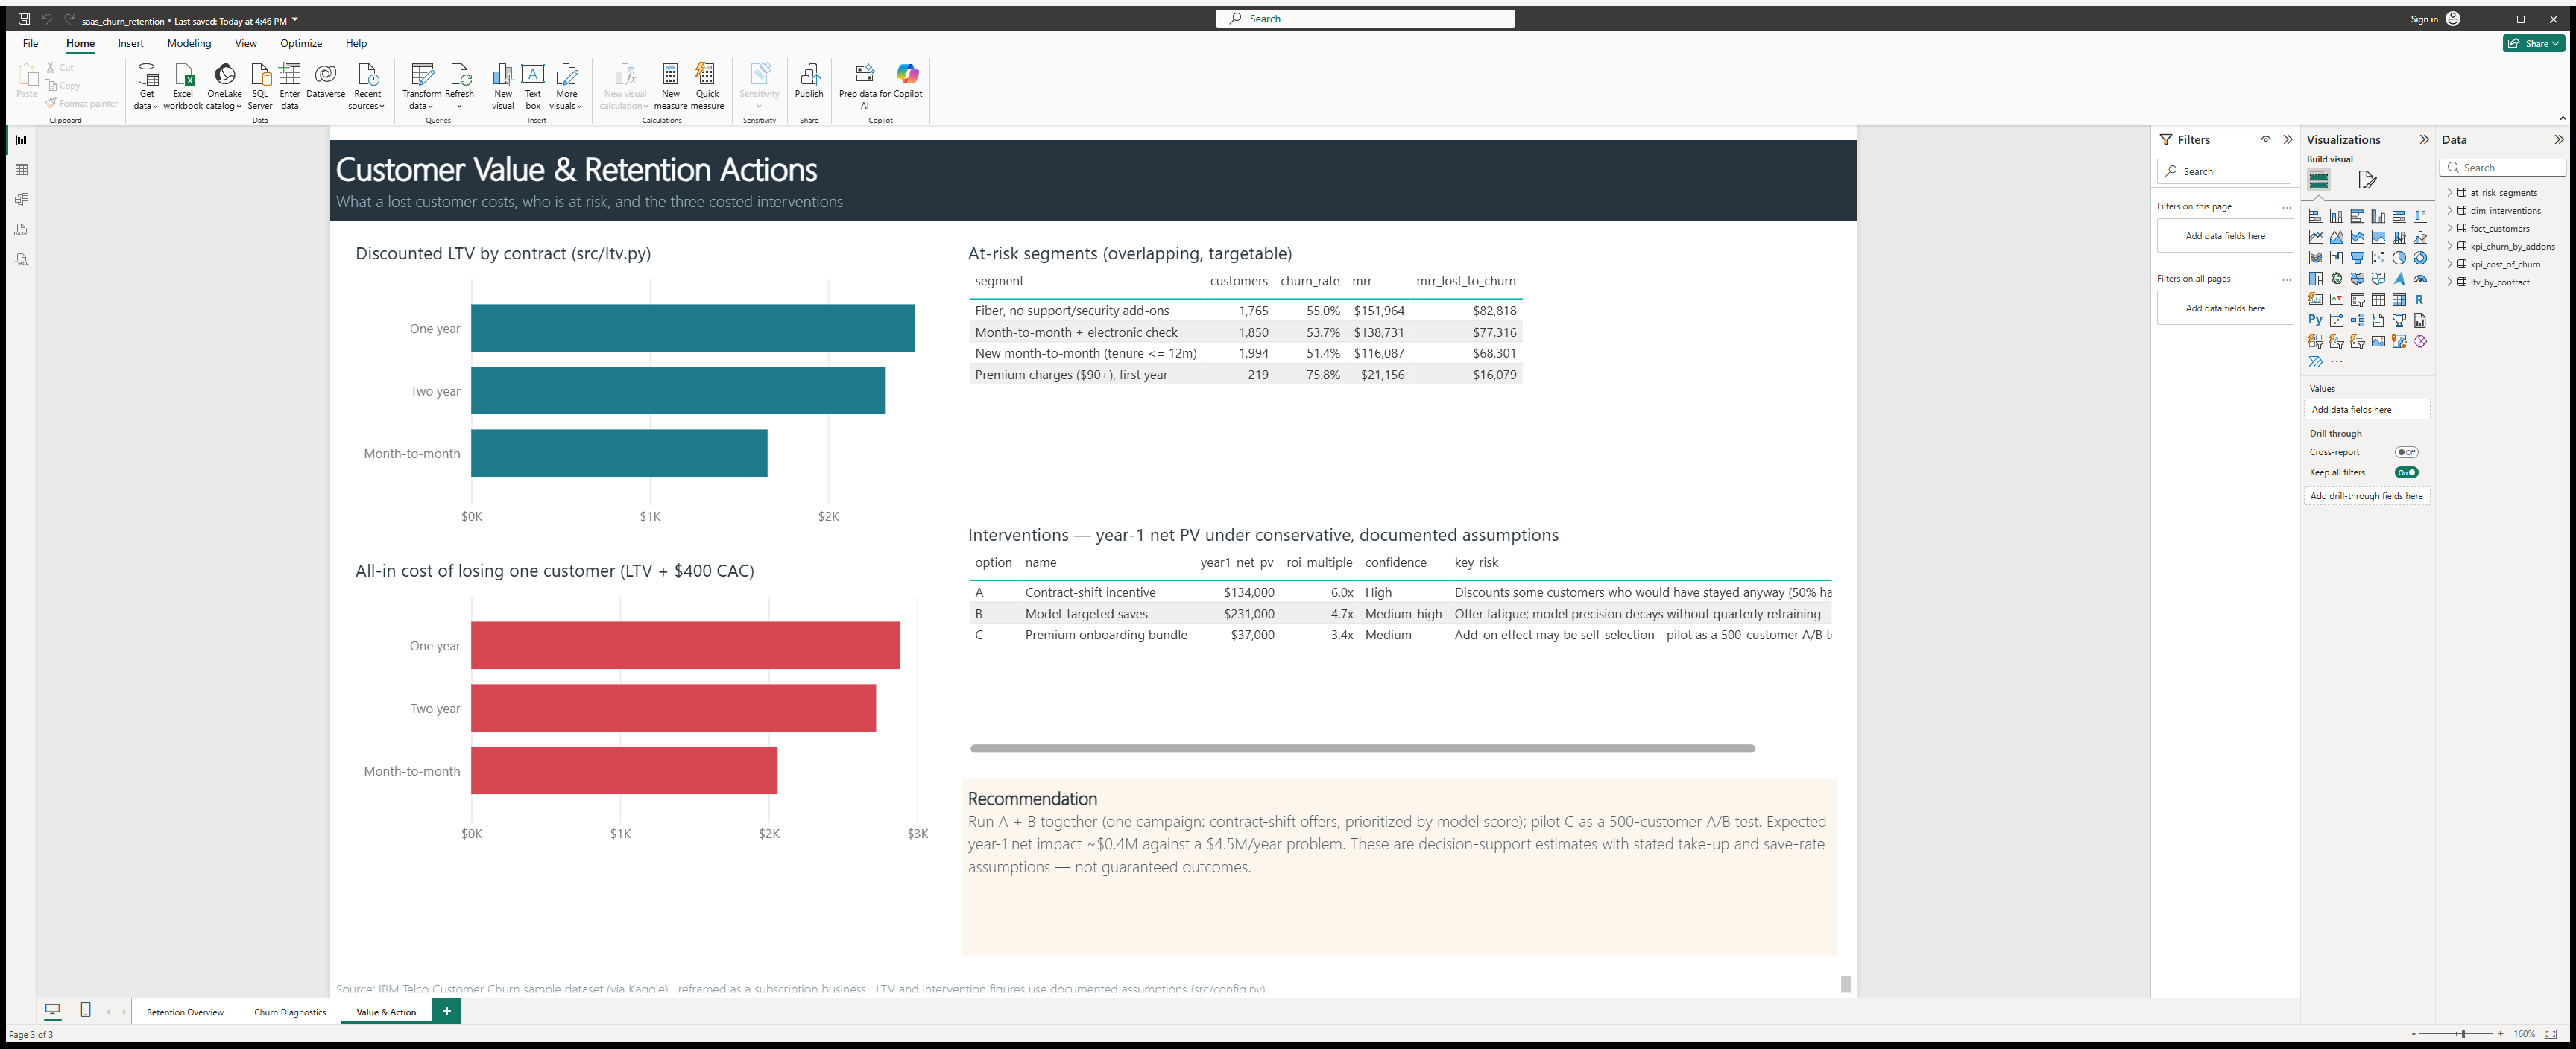

The page's visual inventory and layout, read from the dashboard file:
{"tool":"powerbi","page":{"name":"Value & Action","canvas":[1280,720],"ordinal":2},"visuals":[{"type":"textbox","box":[0,0,1280,68],"z":0},{"type":"textbox","box":[0,696,1280,24],"z":1000},{"type":"clusteredBarChart","title":"Discounted LTV by contract (src/ltv.py)","fields":{"Category":["ltv_by_contract.Contract"],"Y":["ltv_by_contract.Avg Customer LTV"]},"box":[16,84,490,250],"z":2000},{"type":"clusteredBarChart","title":"All-in cost of losing one customer (LTV + $400 CAC)","fields":{"Category":["ltv_by_contract.Contract"],"Y":["ltv_by_contract.Avg Cost per Churn"]},"box":[16,350,490,250],"z":3000},{"type":"tableEx","title":"At-risk segments (overlapping, targetable)","fields":{"Values":["at_risk_segments.segment","at_risk_segments.customers","at_risk_segments.churn_rate","at_risk_segments.mrr","at_risk_segments.mrr_lost_to_churn"]},"box":[530,84,734,220],"z":4000},{"type":"tableEx","title":"Interventions — year-1 net PV under conservative, documented assumptions","fields":{"Values":["dim_interventions.option","dim_interventions.name","dim_interventions.year1_net_pv","dim_interventions.roi_multiple","dim_interventions.confidence","dim_interventions.key_risk"]},"box":[530,320,734,200],"z":5000},{"type":"textbox","box":[530,536,734,148],"z":6000}]}

Visuals, with their boxes on the page's 1280x720 design canvas (x1, y1, x2, y2). These are canvas units, not pixel positions in the 2576x1049 screenshot, which may show the page scaled, cropped or inside an application window:
textbox: box(0, 0, 1280, 68)
textbox: box(0, 696, 1280, 720)
"Discounted LTV by contract (src/ltv.py)" clusteredBarChart: box(16, 84, 506, 334)
"All-in cost of losing one customer (LTV + $400 CAC)" clusteredBarChart: box(16, 350, 506, 600)
"At-risk segments (overlapping, targetable)" tableEx: box(530, 84, 1264, 304)
"Interventions — year-1 net PV under conservative, documented assumptions" tableEx: box(530, 320, 1264, 520)
textbox: box(530, 536, 1264, 684)
